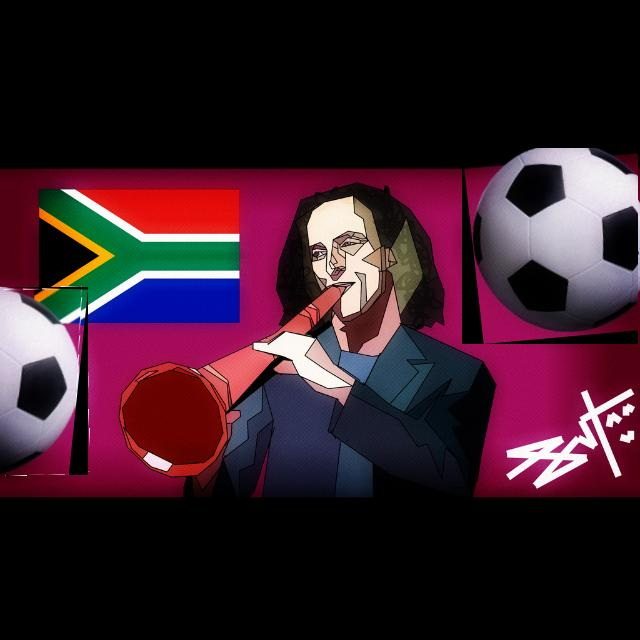Football: (462, 148, 638, 344), (0, 287, 88, 475)
